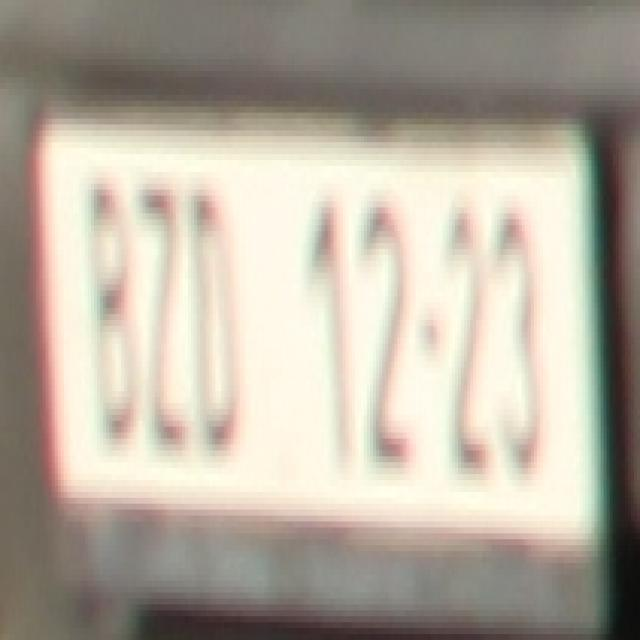1: (306, 178, 355, 462)
2: (436, 190, 492, 474), (358, 189, 410, 486)
3: (494, 201, 549, 480)
8: (78, 166, 140, 444)
Z: (140, 172, 192, 456)
